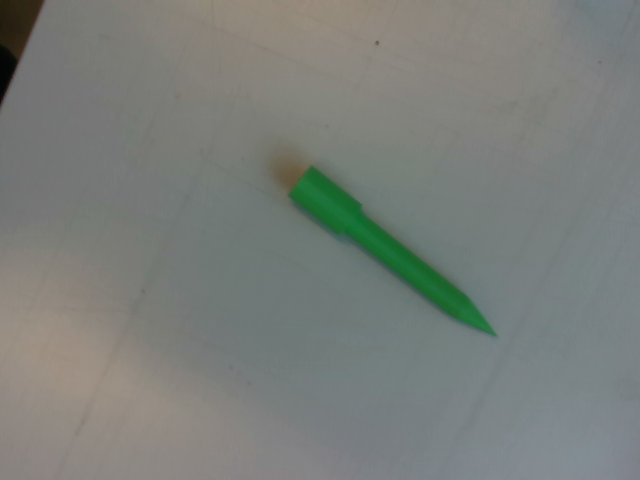Probe: (282, 159, 504, 344)
